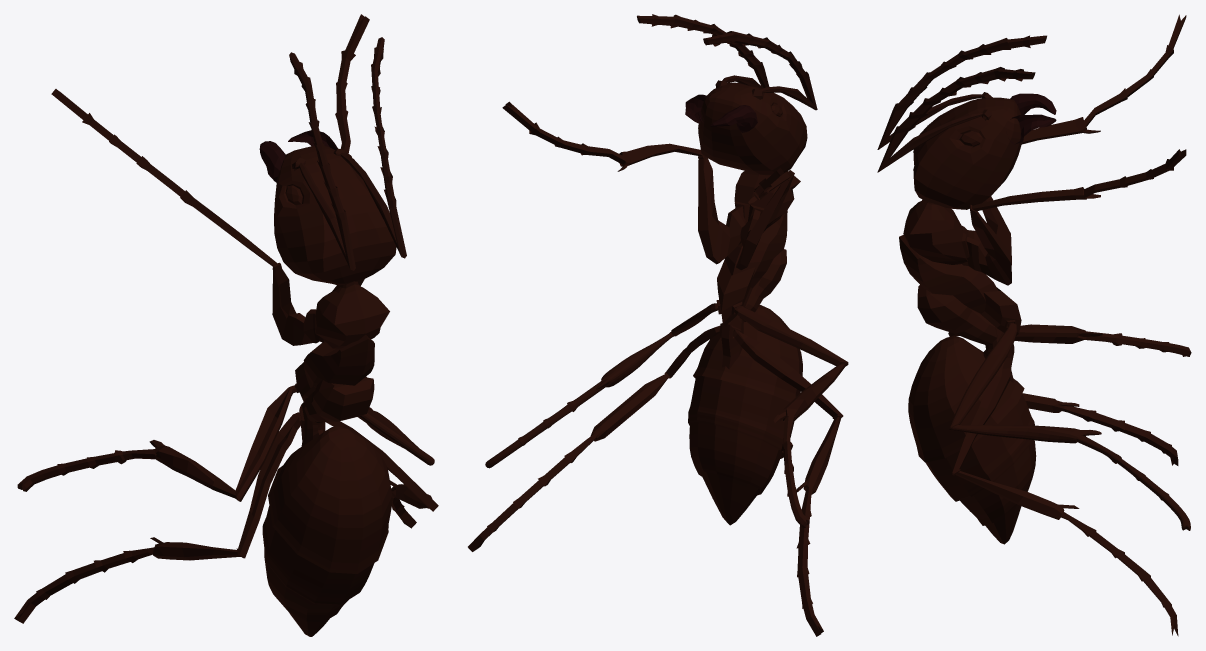
Rendered from Ant.obj.
3 renders of one model, left to right at view 1: azimuth 30°, elevation 25°; view 2: azimuth 150°, elevation 25°; view 3: azimuth 270°, elevation 25°, orthographic. The views are drawn at different scales.
Visible parts, largest first — view 1: Cube.001_Cube.002, Plane.036_Plane.050, Plane.020_Plane.039, Plane.021_Plane.040, Plane.022_Plane.041, Plane.035_Plane.049, Plane.024_Plane.043, Plane.023_Plane.042, Plane.034_Plane.048, Plane.028_Plane.047, Plane.016_Plane.035, Plane.018_Plane.037 (+2 smaller); view 2: Cube.001_Cube.002, Plane.036_Plane.050, Plane.018_Plane.037, Plane.020_Plane.039, Plane.021_Plane.040, Plane.016_Plane.035, Plane.017_Plane.036, Plane.022_Plane.041, Plane.024_Plane.043, Plane.023_Plane.042, Plane.034_Plane.048, Plane.019_Plane.038 (+4 smaller); view 3: Cube.001_Cube.002, Plane.036_Plane.050, Plane.017_Plane.036, Plane.016_Plane.035, Plane.018_Plane.037, Plane.035_Plane.049, Plane.034_Plane.048, Plane.023_Plane.042, Plane.022_Plane.041, Plane.024_Plane.043, Plane.028_Plane.047, Plane.021_Plane.040 (+4 smaller).
Boxes of the visible parts, box(x1,y1,x2,y2) form: Cube.001_Cube.002: box(262, 426, 392, 636); Plane.036_Plane.050: box(274, 145, 396, 284); Plane.020_Plane.039: box(14, 412, 301, 623); Plane.021_Plane.040: box(17, 385, 296, 501); Plane.022_Plane.041: box(51, 89, 325, 345); Plane.035_Plane.049: box(315, 281, 389, 348); Plane.024_Plane.043: box(289, 52, 355, 270); Plane.023_Plane.042: box(333, 37, 406, 258); Plane.034_Plane.048: box(303, 334, 374, 387); Plane.028_Plane.047: box(304, 377, 374, 421); Plane.016_Plane.035: box(325, 421, 438, 528); Plane.018_Plane.037: box(332, 14, 369, 291); Cube.001_Cube.002: box(688, 305, 802, 525); Plane.036_Plane.050: box(698, 82, 807, 175); Plane.018_Plane.037: box(502, 101, 746, 264); Plane.020_Plane.039: box(732, 329, 843, 636); Plane.021_Plane.040: box(734, 305, 848, 528); Plane.016_Plane.035: box(468, 325, 719, 551); Plane.017_Plane.036: box(485, 303, 718, 468); Plane.022_Plane.041: box(736, 168, 794, 270); Plane.024_Plane.043: box(703, 31, 817, 110); Plane.023_Plane.042: box(637, 14, 769, 88); Plane.034_Plane.048: box(724, 210, 787, 287); Plane.019_Plane.038: box(716, 260, 760, 326); Cube.001_Cube.002: box(908, 336, 1036, 544); Plane.036_Plane.050: box(913, 97, 1021, 209); Plane.017_Plane.036: box(949, 323, 1190, 530); Plane.016_Plane.035: box(952, 348, 1178, 636); Plane.018_Plane.037: box(962, 149, 1186, 285); Plane.035_Plane.049: box(903, 199, 969, 264); Plane.034_Plane.048: box(899, 234, 998, 313); Plane.023_Plane.042: box(877, 67, 1035, 172); Plane.022_Plane.041: box(967, 14, 1186, 264); Plane.024_Plane.043: box(877, 35, 1046, 149); Plane.028_Plane.047: box(917, 285, 997, 344); Plane.021_Plane.040: box(948, 324, 1191, 356).
Size of the model in its own units: 5.78 by 7.93 by 4.35.
